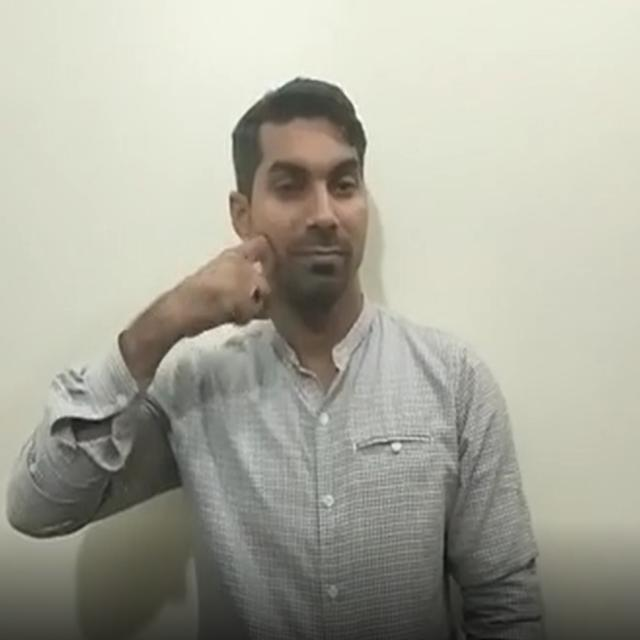apple: (190, 235, 278, 326)
